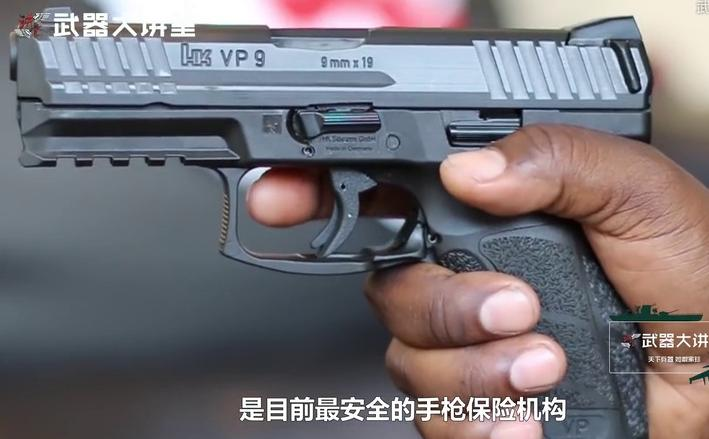gun: (1, 1, 709, 439)
